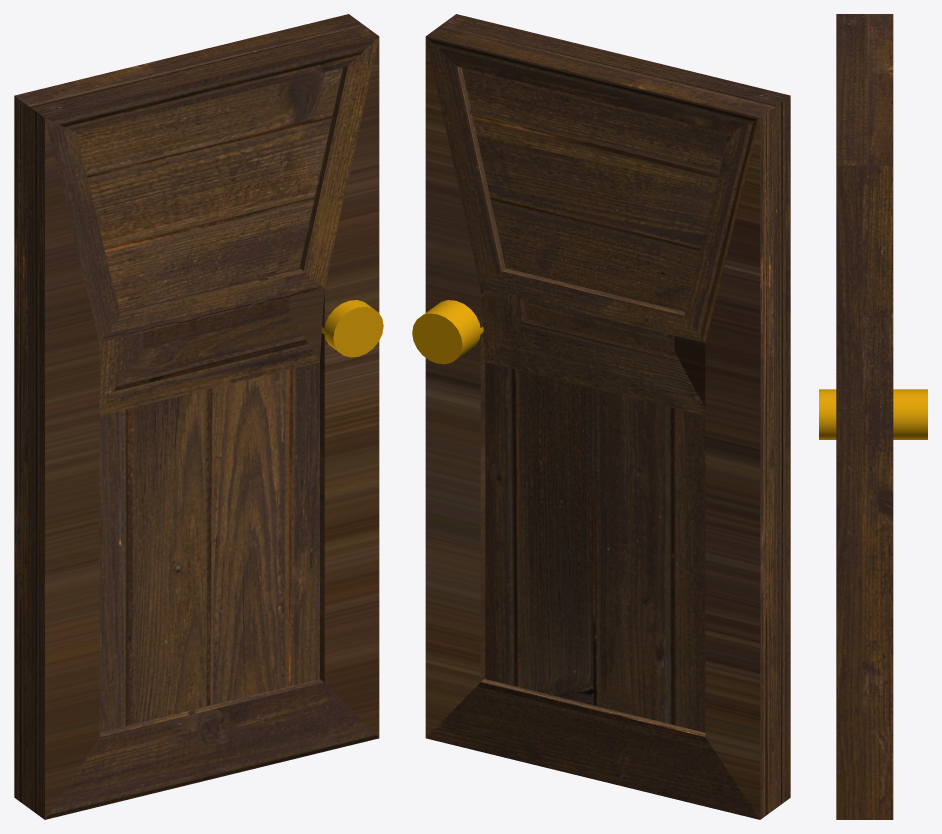
File: Door.fbx
The picture shows the model from 3 angles, left to right: view 1: azimuth 30°, elevation 25°; view 2: azimuth 150°, elevation 25°; view 3: azimuth 270°, elevation 25°; orthographic projection. The views are drawn at different scales.
Visible parts, largest first — view 1: pCube20; view 2: pCube20; view 3: pCube20.
Part boxes in pixels (x1,y1,x2,y2): pCube20: (14, 14, 383, 819); pCube20: (412, 14, 790, 819); pCube20: (819, 14, 927, 819).
Bounding box in the file's own units: 17.46 × 35.01 × 5.28.
Materials: 2 (1 with a texture image).
